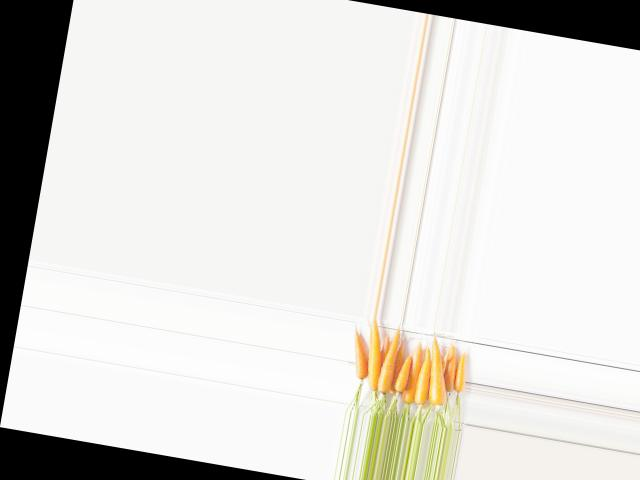carrot: (448, 346, 474, 396)
